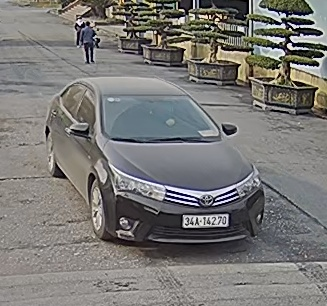vehicle plate: (177, 212, 232, 231)
